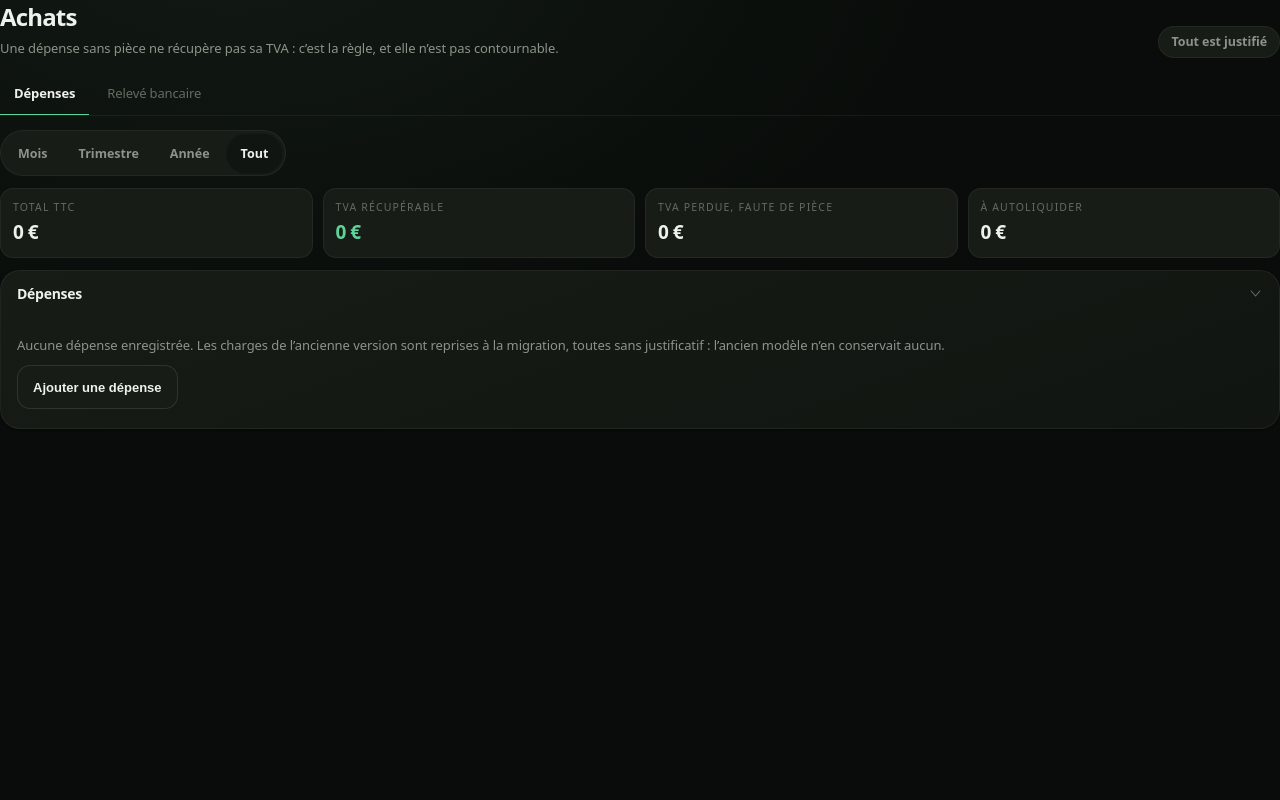
Test: saisie › enregistre une dépense sans pièce, et enchaîne sur le dépôt
Click the button "Ajouter une dépense" at (97, 387), box [17, 365, 178, 409]
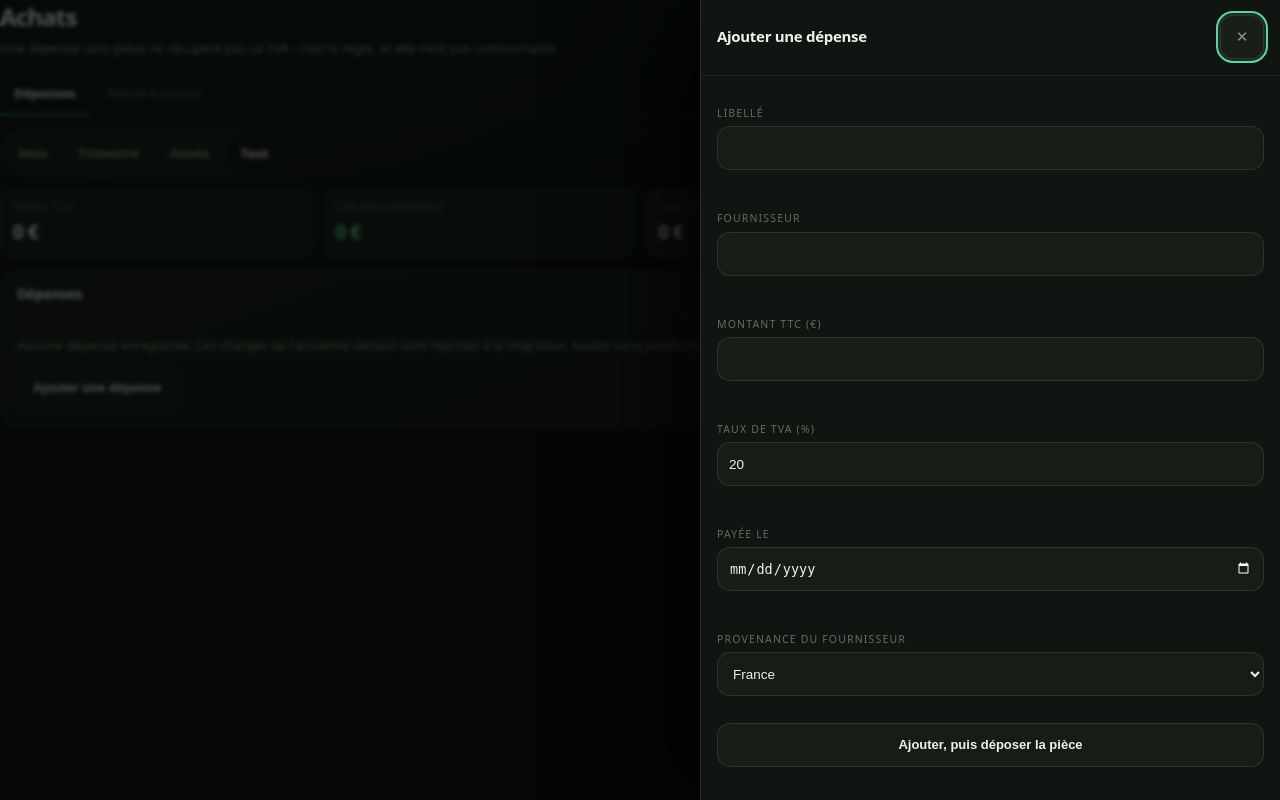
Type "Train Paris-Lyon" into the field labelled "Libellé" at (990, 148), box [717, 126, 1264, 170]
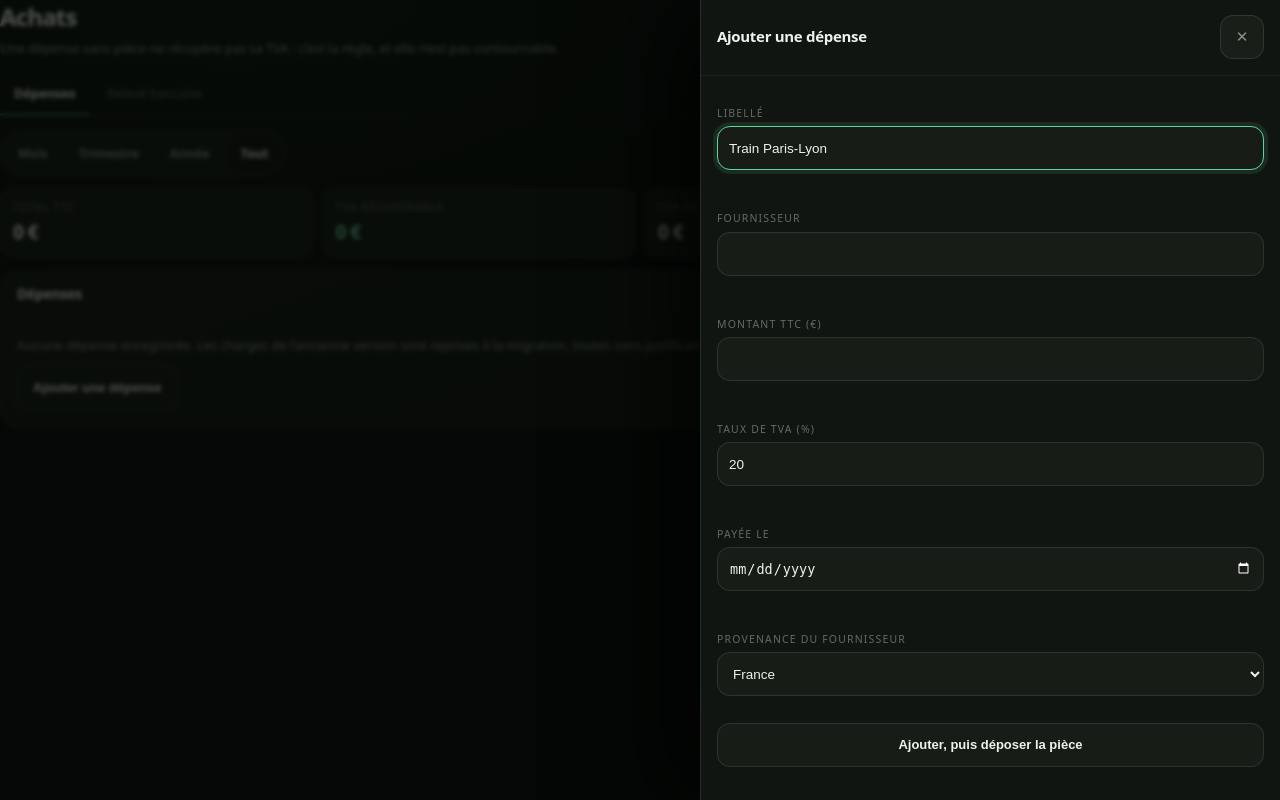
Type "88" into the field labelled "Montant TTC (€)" at (990, 359), box [717, 337, 1264, 381]
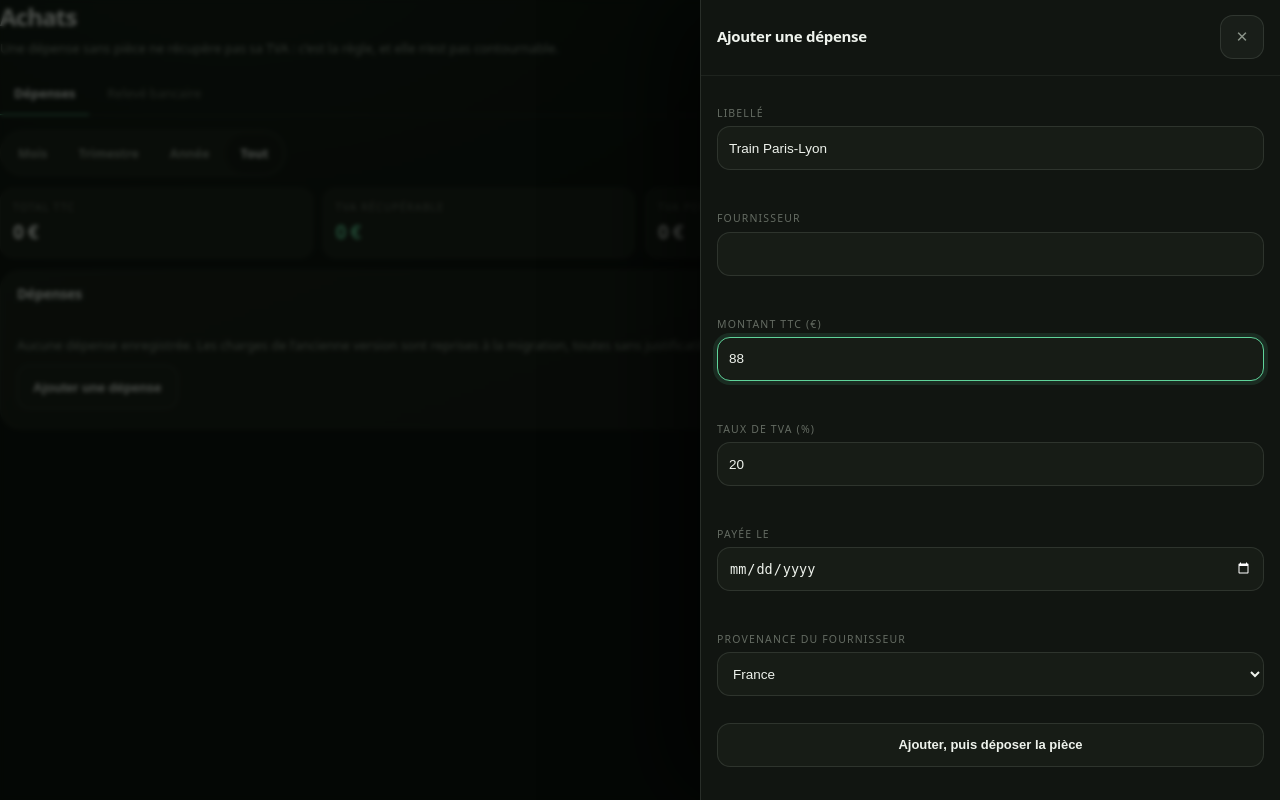
Replace the text in the field labelled "Taux de TVA (%)" with "10" at (990, 464), box [717, 442, 1264, 486]
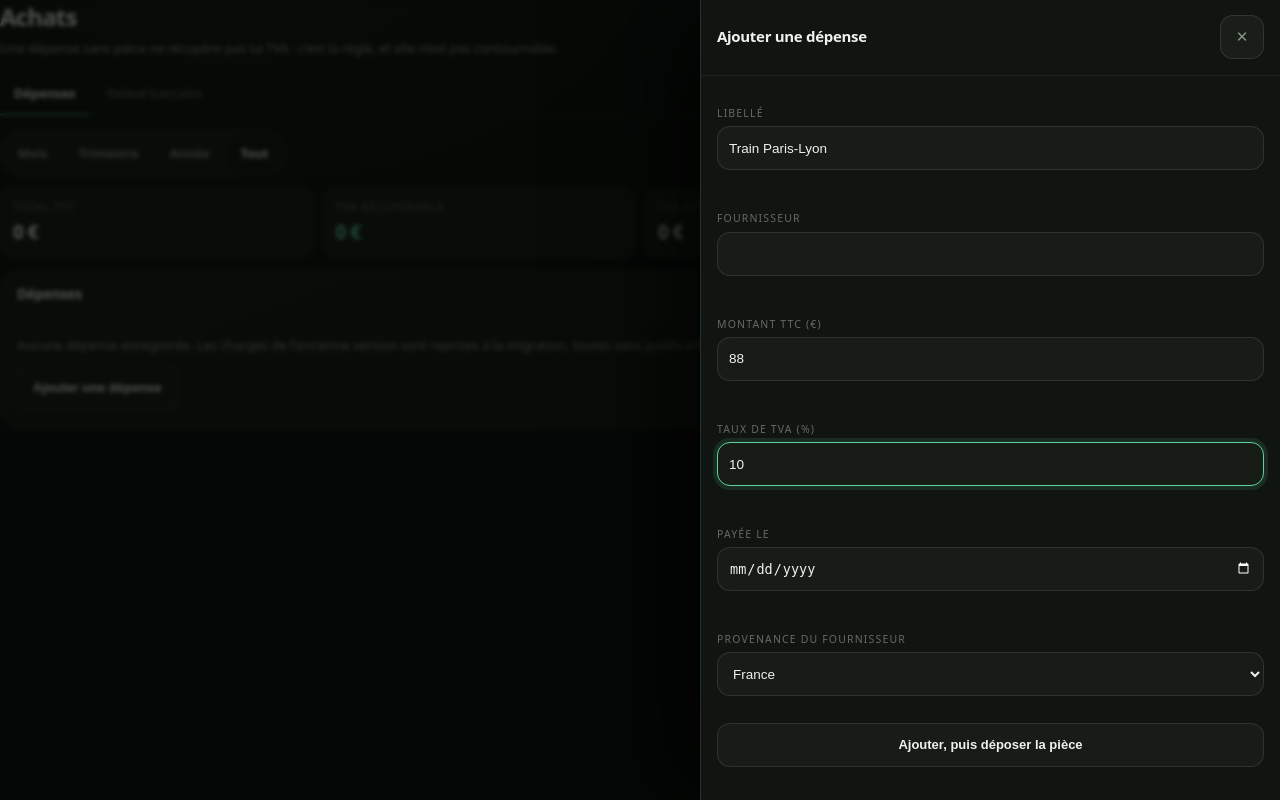
Click the button "Ajouter, puis déposer la pièce" at (990, 745), box [717, 723, 1264, 767]
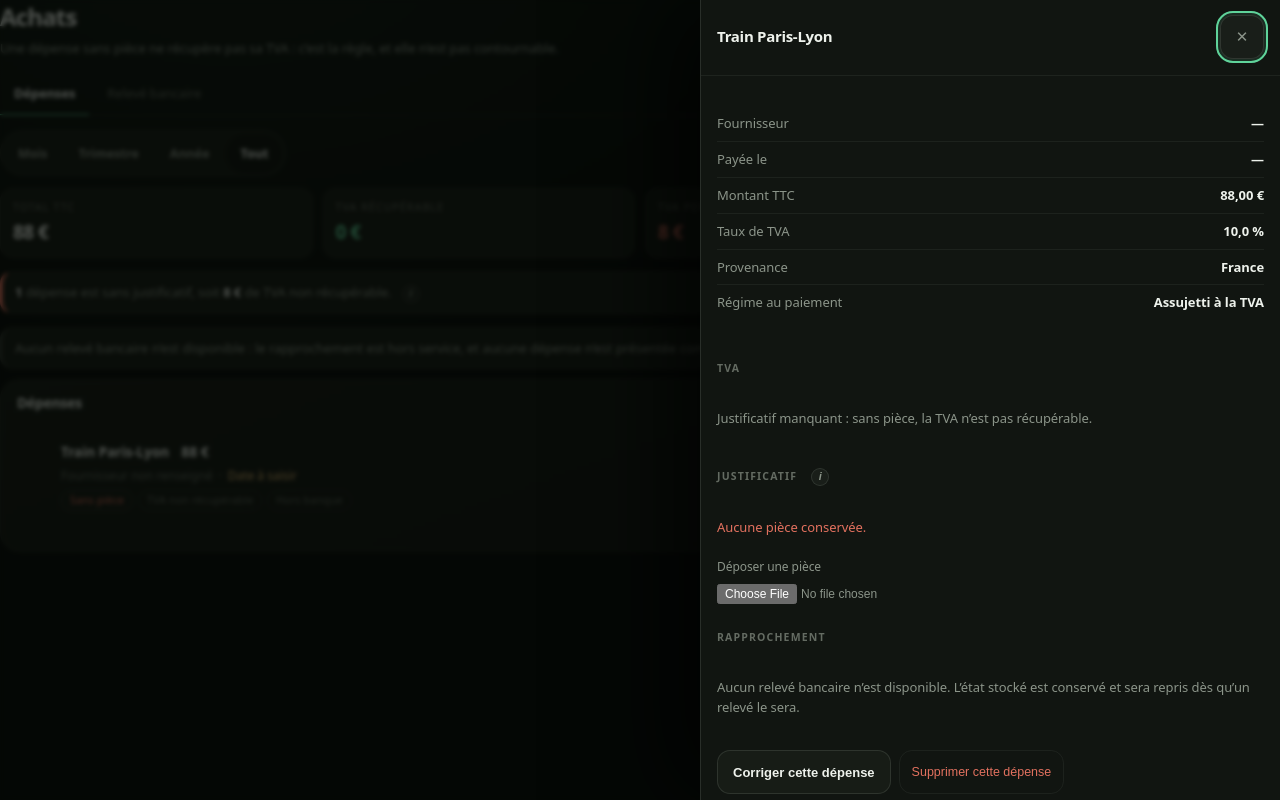
Result: the text "Train Paris-Lyon" is shown at [61, 443, 169, 462]
Result: the file field labelled "Déposer une pièce" is shown at [717, 584, 1264, 604]
